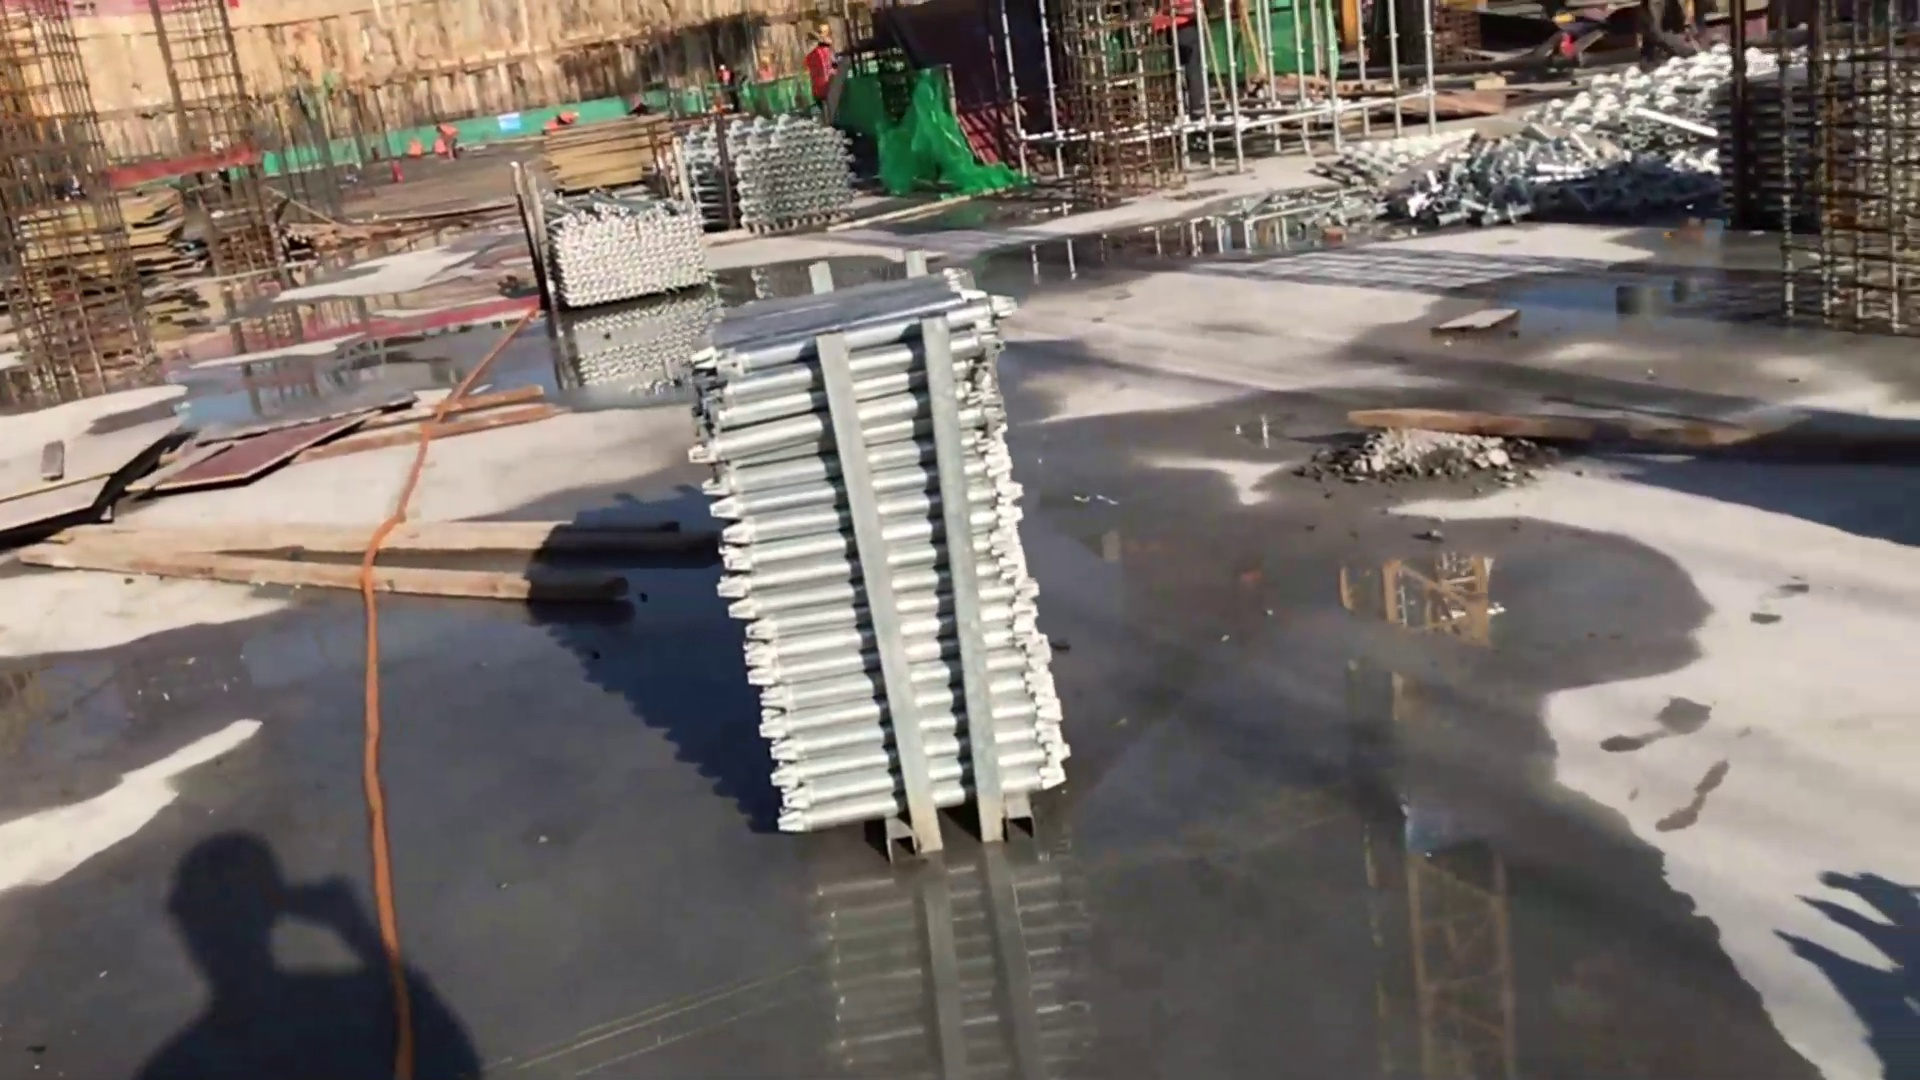board: (27, 191, 182, 265), (533, 126, 667, 193)
person: (809, 26, 846, 107)
scaffold: (694, 276, 1059, 839), (1512, 81, 1720, 214), (546, 200, 708, 305), (731, 125, 858, 232)
